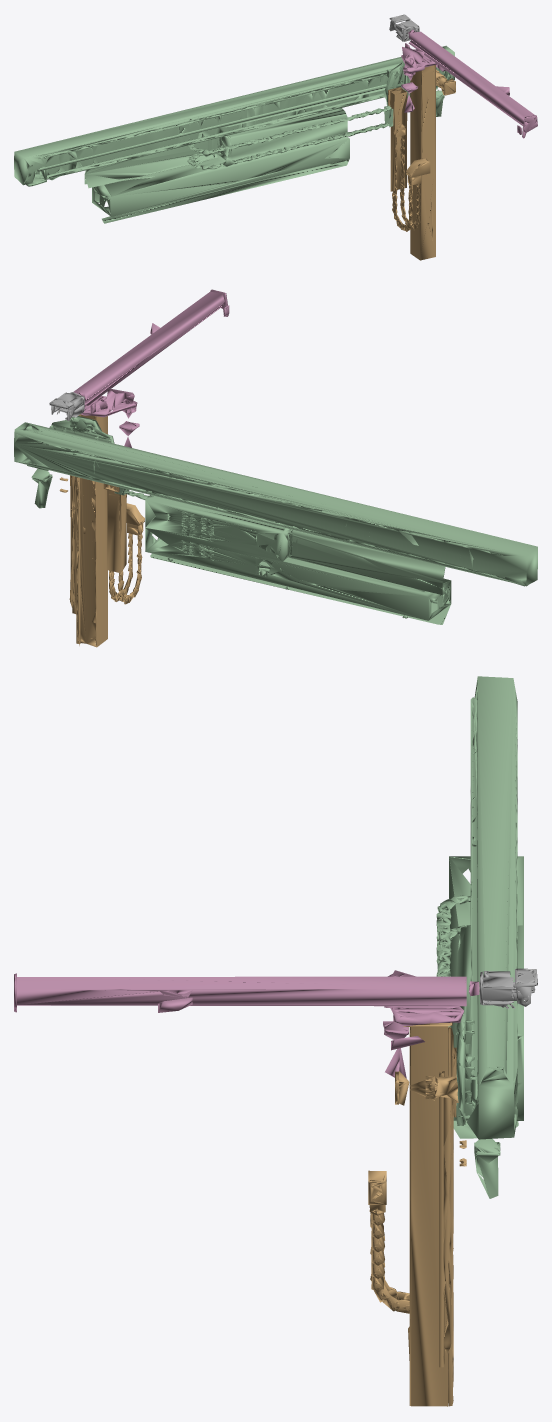
Rendered from mapping_machine.glb.
3 renders of one model, top to bottom at view 1: azimuth 30°, elevation 25°; view 2: azimuth 150°, elevation 25°; view 3: azimuth 270°, elevation 25°, orthographic. The views are drawn at different scales.
Size of the model in its own units: 3.17 by 1.54 by 1.71.
